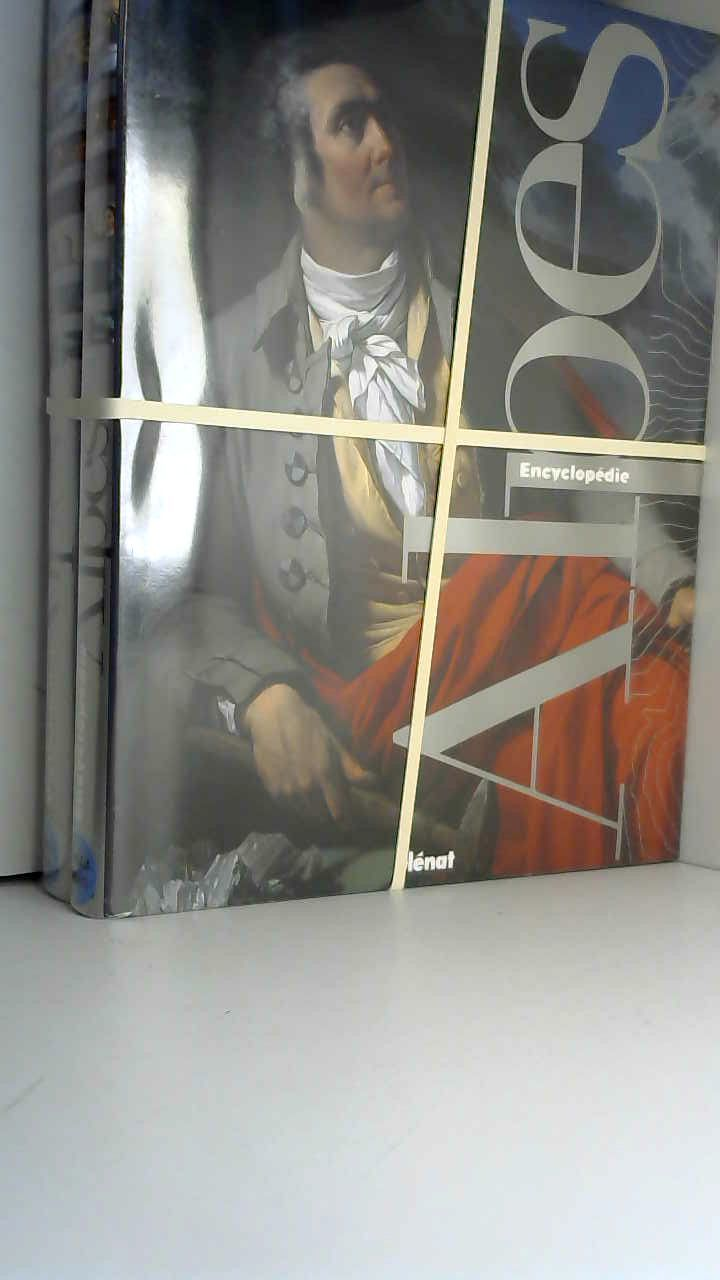book: (19, 0, 720, 942)
